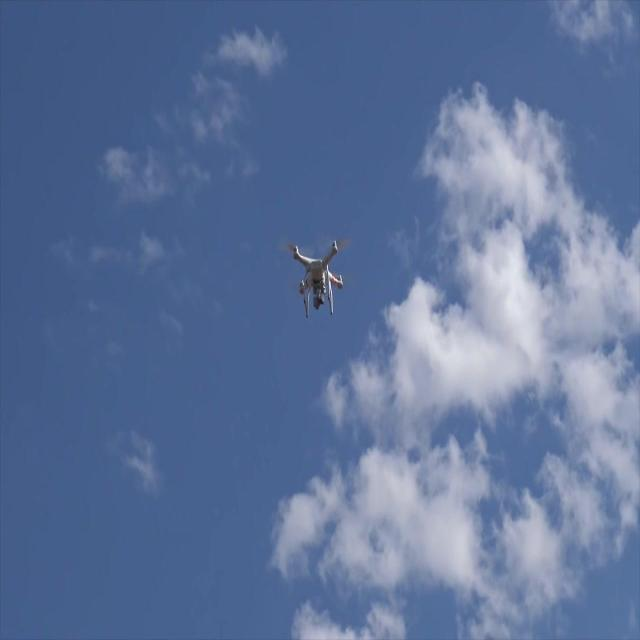drone: (290, 235, 351, 325)
